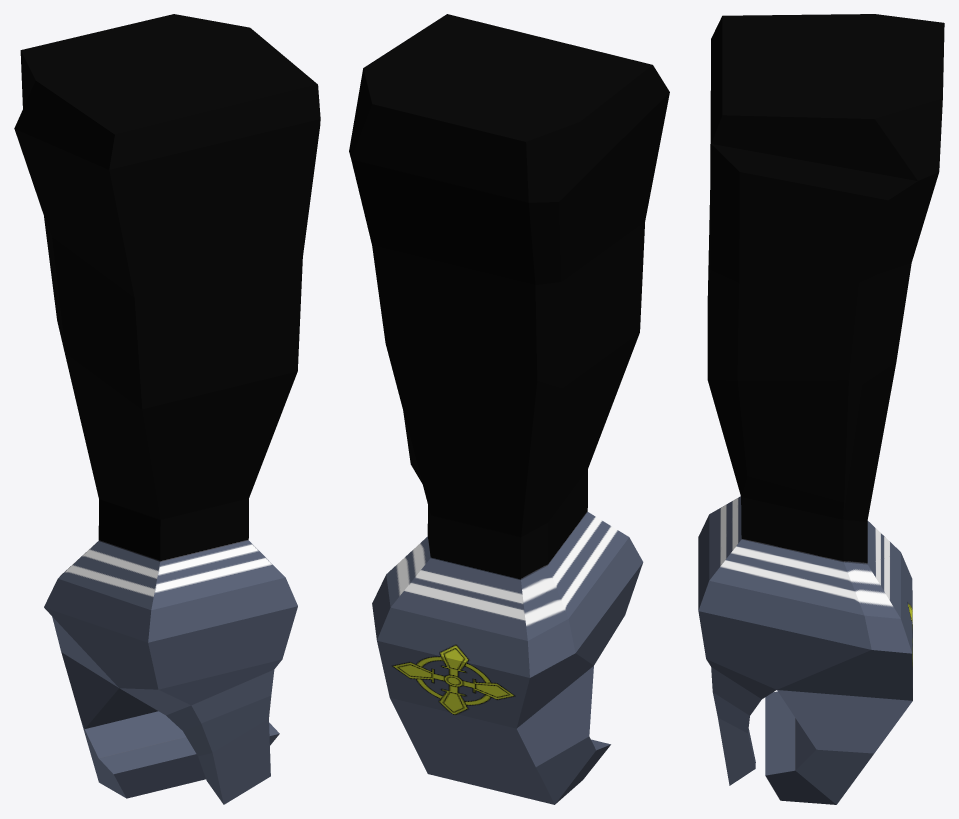
The model's file is leftarm.obj.
The picture shows the model from 3 angles, left to right: view 1: azimuth 30°, elevation 25°; view 2: azimuth 150°, elevation 25°; view 3: azimuth 270°, elevation 25°; orthographic projection.
Visible parts, largest first — view 1: leftarm1:pCube4 leftarm1:pCube5 leftarm1:polySurface1; view 2: leftarm1:pCube4 leftarm1:pCube5 leftarm1:polySurface1; view 3: leftarm1:pCube4 leftarm1:pCube5 leftarm1:polySurface1.
Boxes of the visible parts, left/top/right/bottom form: leftarm1:pCube4 leftarm1:pCube5 leftarm1:polySurface1: left=14, top=14, right=320, bottom=804; leftarm1:pCube4 leftarm1:pCube5 leftarm1:polySurface1: left=349, top=14, right=669, bottom=804; leftarm1:pCube4 leftarm1:pCube5 leftarm1:polySurface1: left=698, top=14, right=944, bottom=804.
Size of the model in its own units: 0.3885 by 1.16 by 0.3635.
1 material, 1 textured.
